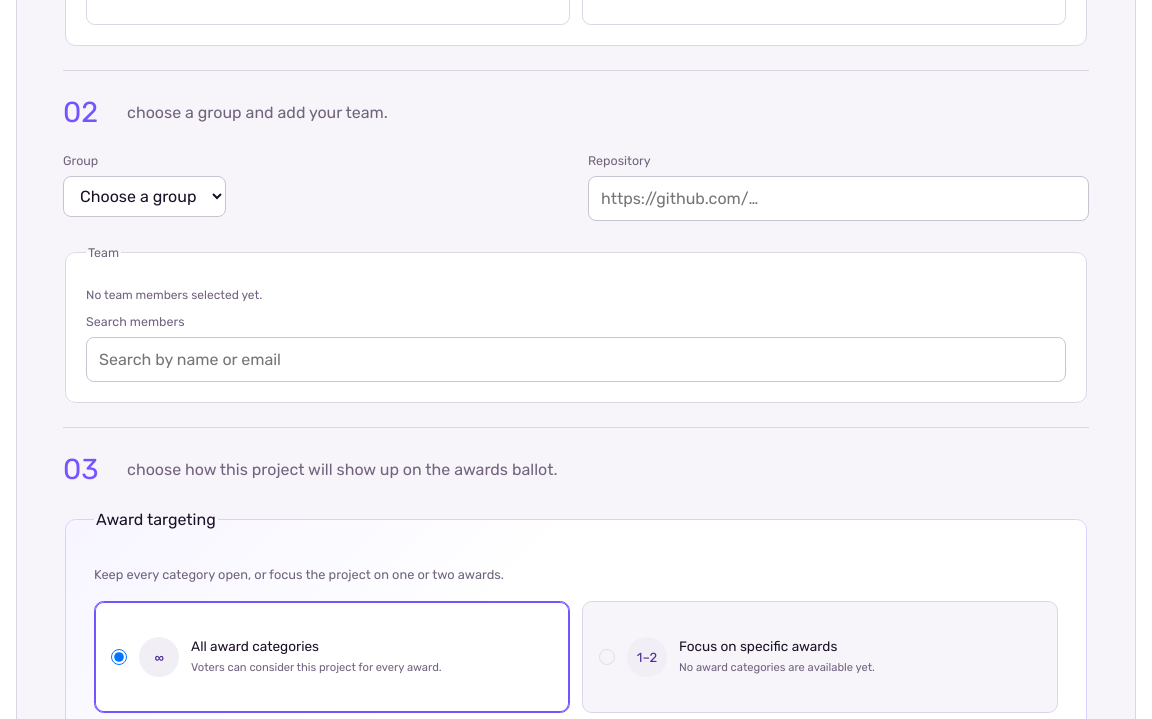
Scenario: ProjectForm team picker › adds a selected member and clears the search
(page scrolled)
Type "alice" into the dropdown labelled "Search members" at [576, 360], box [86, 337, 1066, 382]
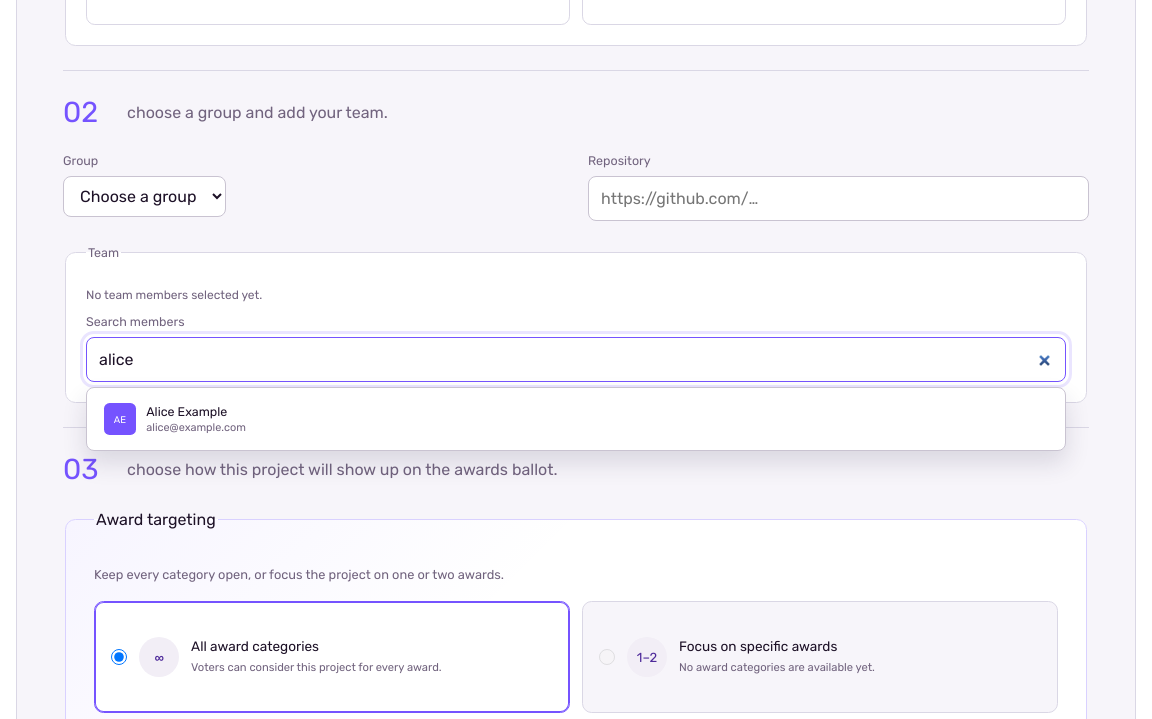
Click the option "AE Alice Example alice@example.com" at [120, 419], box [93, 394, 1059, 445]
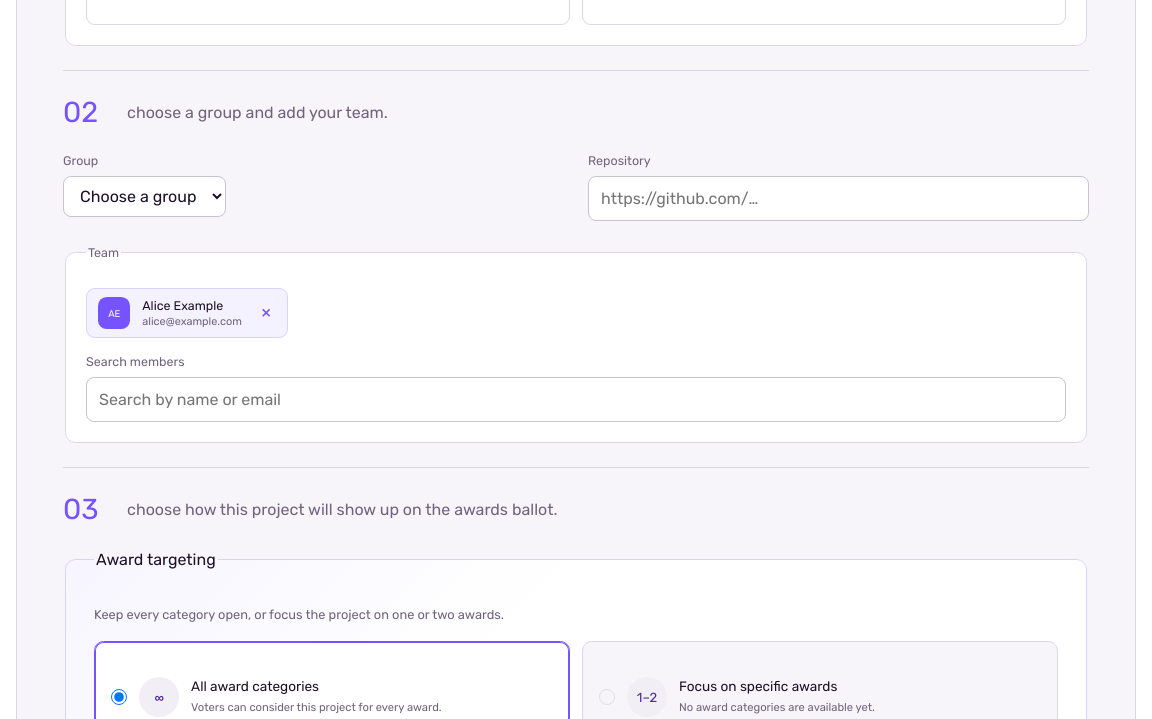
Check: the text "Alice Example" is shown, box [142, 298, 223, 313]
Check: the dropdown labelled "Search members" is empty, box [86, 377, 1066, 422]
